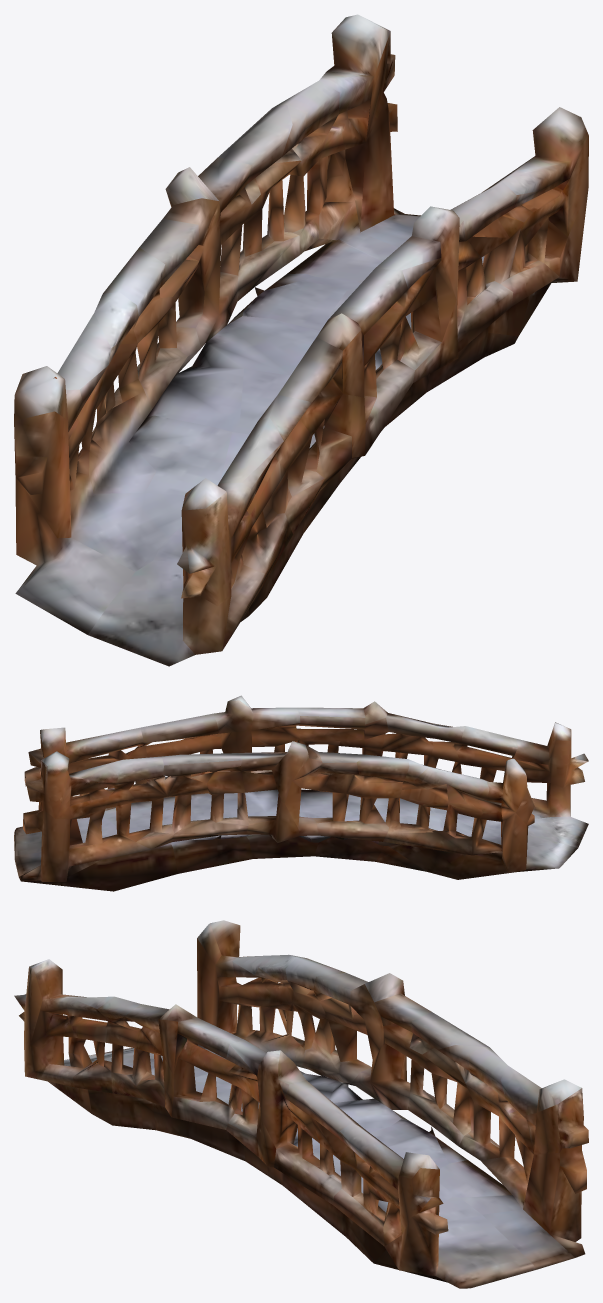
Rendered from dio_bridge.glb.
The picture shows the model from 3 angles, top to bottom: view 1: azimuth 30°, elevation 25°; view 2: azimuth 150°, elevation 25°; view 3: azimuth 270°, elevation 25°; orthographic projection. The views are drawn at different scales.
Visible parts, largest first — view 1: tripo_part_9; view 2: tripo_part_9; view 3: tripo_part_9.
Part boxes in pixels (box(x1,y1,x2,y2)): tripo_part_9: box(14, 14, 588, 666); tripo_part_9: box(14, 695, 588, 891); tripo_part_9: box(14, 920, 588, 1288).
Bounding box in the file's own units: 0.2452 × 0.0834 × 0.2246.
1 material, 1 textured.
